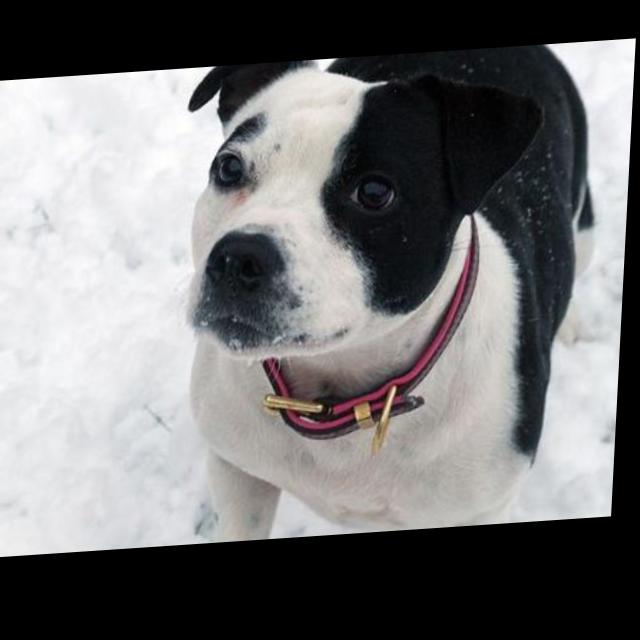staffford: (170, 50, 608, 550)
